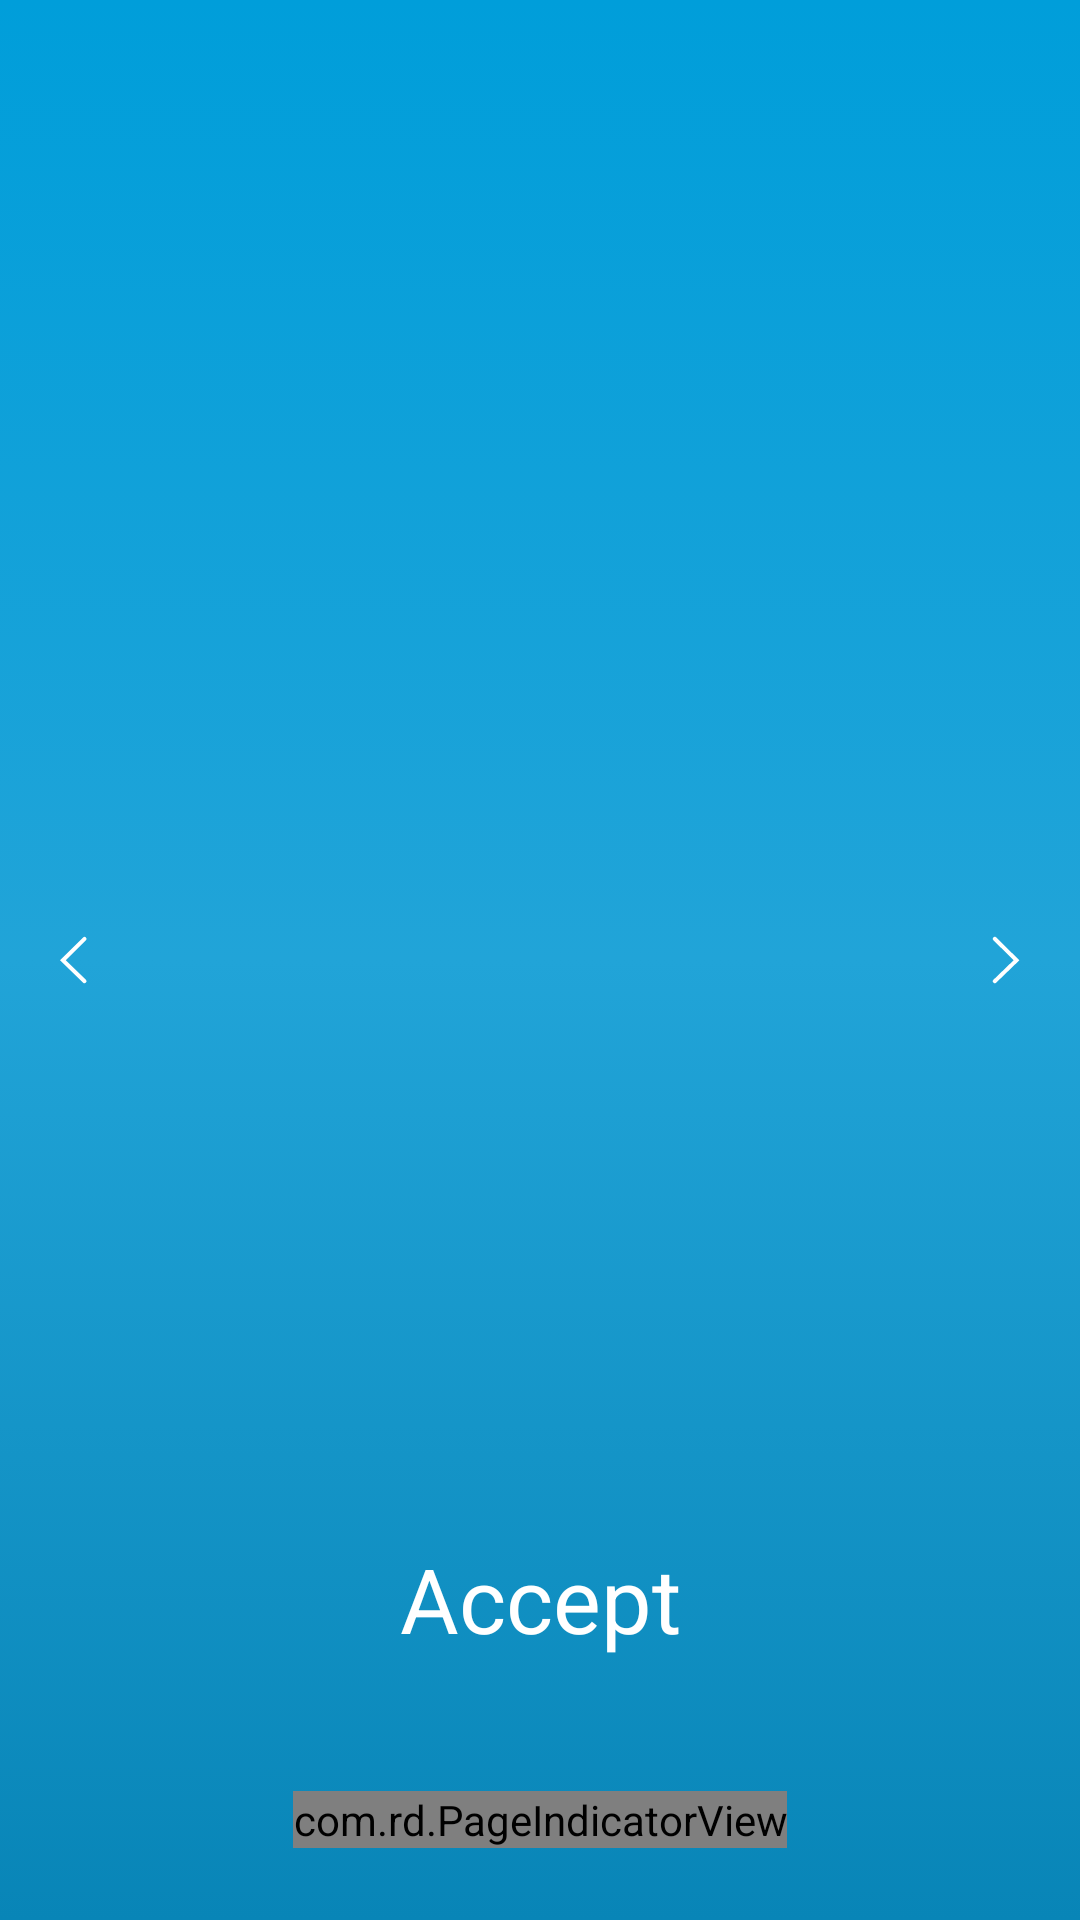

Icon bounding boxes for this 1080 × 1920 phone screenshot, format (x1, y1, x2, y2):
arrow left: (60, 936, 87, 984)
arrow right: (992, 936, 1020, 984)
